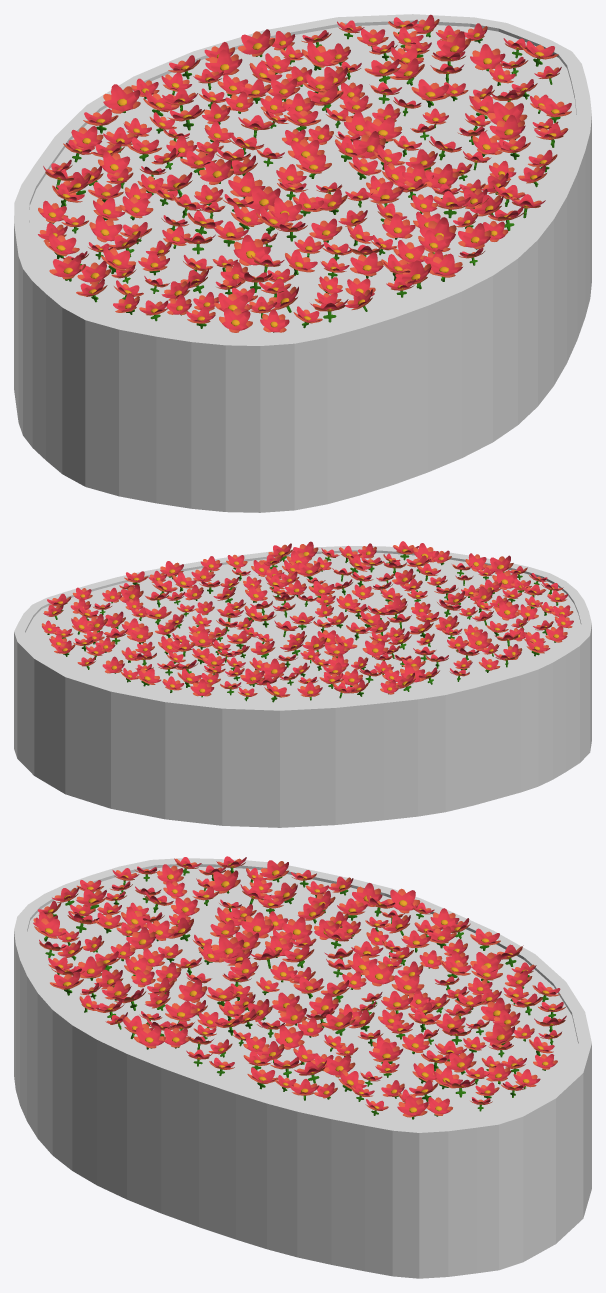
Rendered from FlowerPot3rdArea.fbx.
3 views of the same model, one above another, from view 1: azimuth 30°, elevation 25°; view 2: azimuth 150°, elevation 25°; view 3: azimuth 270°, elevation 25° (orthographic). The views are drawn at different scales.
Parts seen in each view (by area): view 1: FlowerBase3, FlowerGeneration3; view 2: FlowerBase3, FlowerGeneration3; view 3: FlowerBase3, FlowerGeneration3.
Boxes of the visible parts, x1=… form: FlowerBase3: x1=14, y1=14, x2=591, y2=512; FlowerGeneration3: x1=38, y1=14, x2=571, y2=332; FlowerBase3: x1=14, y1=546, x2=591, y2=827; FlowerGeneration3: x1=41, y1=541, x2=573, y2=702; FlowerBase3: x1=14, y1=858, x2=591, y2=1278; FlowerGeneration3: x1=33, y1=856, x2=566, y2=1119.
Size of the model in its own units: 419 by 118 by 372.
